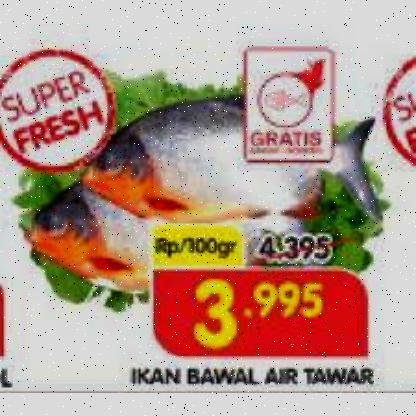ikan-pacu: (91, 95, 344, 212), (24, 182, 178, 286)
